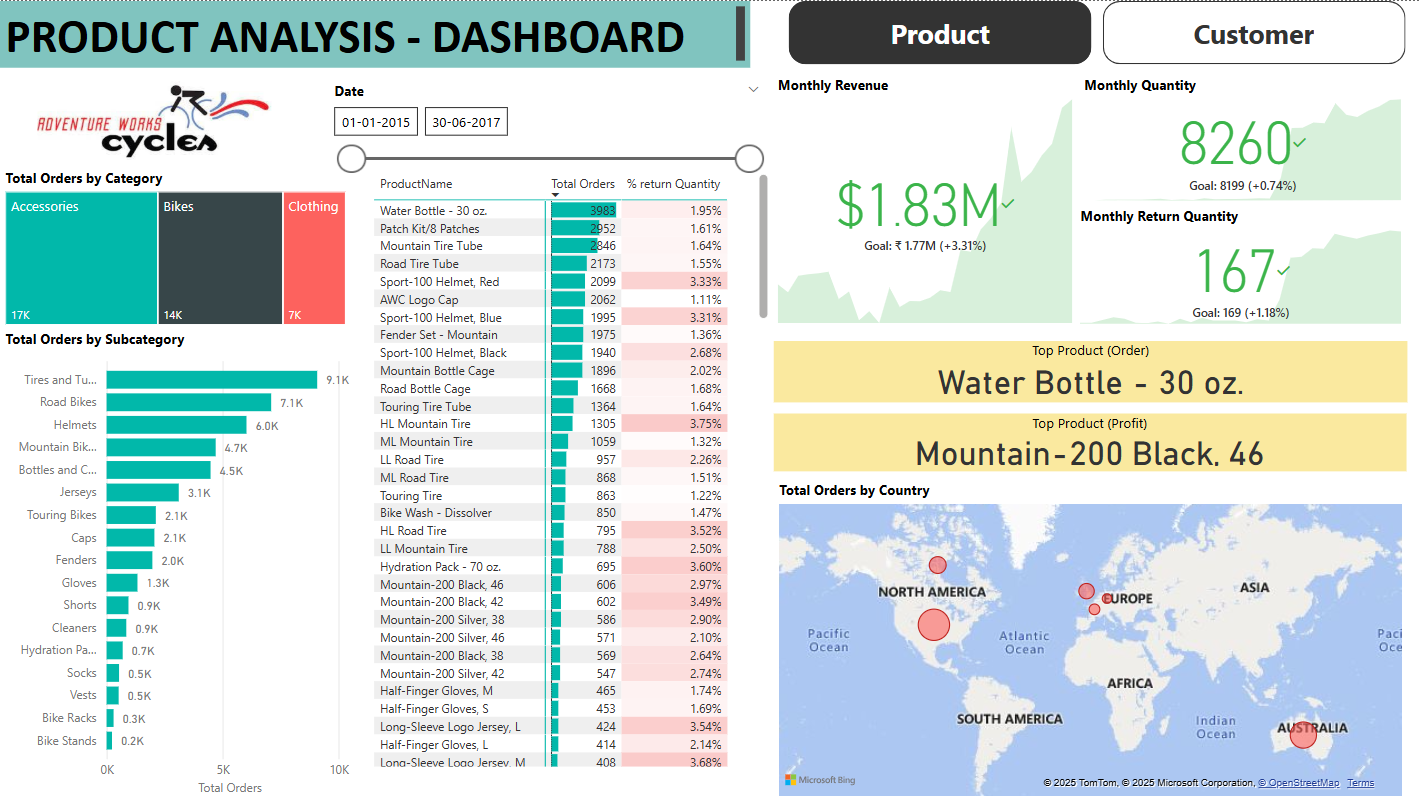

The page's visual inventory and layout, read from the dashboard file:
{"tool":"powerbi","page":{"name":"Product","canvas":[1280,720],"ordinal":0},"visuals":[{"type":"pivotTable","fields":{"Rows":["AW_Products.ProductName"],"Values":["Count(AW_Sales.OrderNumber)","AW_Returns.% return rate"]},"box":[331.4,150,364.3,542.9],"z":0},{"type":"kpi","title":"Monthly Revenue","fields":{"Indicator":["AW_Sales.TotalSales_dax"],"TrendLine":["AW_Calendar.Start of Month"],"Goal":["AW_Sales.previousmonth_sale"]},"box":[694.9,67.8,274.6,227.1],"z":1000},{"type":"kpi","title":"Monthly Return Quantity","fields":{"TrendLine":["AW_Calendar.Start of Month"],"Goal":["AW_Returns.previousmonth_return"],"Indicator":["Sum(AW_Returns.ReturnQuantity)"]},"box":[966.7,185,298.3,110],"z":2000},{"type":"kpi","title":"Monthly Quantity","fields":{"TrendLine":["AW_Calendar.Start of Month"],"Indicator":["Sum(AW_Sales.OrderQuantity)"],"Goal":["AW_Sales.previousmonth_orderQTY"]},"box":[969.5,67.8,294.9,116.9],"z":3000},{"type":"card","title":"Top Product (Order)","fields":{"Values":["Min(AW_Products.ProductName)"]},"box":[695.4,305.9,569.9,54.8],"z":4000},{"type":"card","title":"Top Product (Profit)","fields":{"Values":["Min(AW_Products.ProductName)"]},"box":[695.4,370.8,568.4,51.9],"z":5000},{"type":"clusteredBarChart","title":"Total Orders by Subcategory","fields":{"Category":["AW_Product_Subcategories.SubcategoryName"],"Y":["Count(AW_Sales.OrderNumber)"]},"box":[0,295.7,331.9,423.4],"z":6000},{"type":"treemap","title":"Total Orders by Category","fields":{"Group":["AW_Product_Categories.CategoryName"],"Values":["Count(AW_Sales.OrderNumber)"]},"box":[0,150,316,145.7],"z":7000},{"type":"textbox","box":[0,0,674.3,60],"z":8000},{"type":"slicer","fields":{"Values":["AW_Calendar.Date"]},"box":[287.1,67.1,407.1,88.6],"z":9000},{"type":"map","title":"Total Orders by Country","fields":{"Category":["AW_Territories.Country"],"Size":["Count(AW_Sales.OrderNumber)"]},"box":[695,431.7,570,288.3],"z":10000},{"type":"image","box":[0,67.1,277.1,82.9],"z":11000},{"type":"pageNavigator","box":[708.5,0,555.9,57.6],"z":12000}]}

Visuals, with their boxes in screenshot pixels (x1, y1, x2, y2), scaled from the page's 1280x720 canvas onto the 1421x796 screenshot:
pivotTable - AW_Products.ProductName x Count(AW_Sales.OrderNumber): <box>368,166,772,766</box>
"Monthly Revenue" kpi: <box>771,75,1076,326</box>
"Monthly Return Quantity" kpi: <box>1073,205,1404,326</box>
"Monthly Quantity" kpi: <box>1076,75,1404,204</box>
"Top Product (Order)" card: <box>772,338,1405,399</box>
"Top Product (Profit)" card: <box>772,410,1403,467</box>
"Total Orders by Subcategory" clusteredBarChart: <box>0,327,368,795</box>
"Total Orders by Category" treemap: <box>0,166,351,327</box>
textbox: <box>0,0,749,66</box>
slicer - AW_Calendar.Date: <box>319,74,771,172</box>
"Total Orders by Country" map: <box>772,477,1404,795</box>
image: <box>0,74,308,166</box>
pageNavigator: <box>787,0,1404,64</box>
